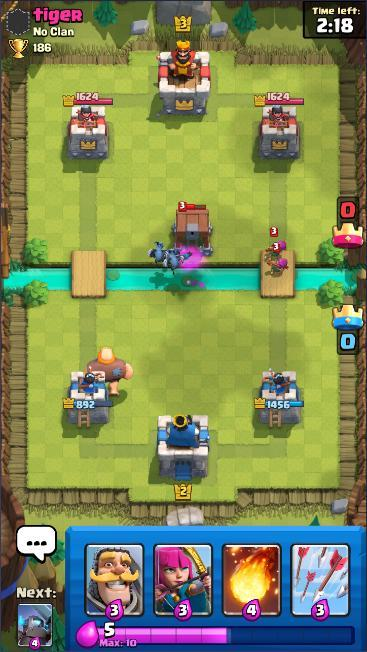ally_giant: (84, 345, 135, 398)
ally_minion: (160, 246, 186, 276), (147, 239, 171, 266)
enemy_archer: (261, 226, 288, 261), (264, 241, 291, 276)
enemy_goblin_cage: (170, 199, 217, 259)
